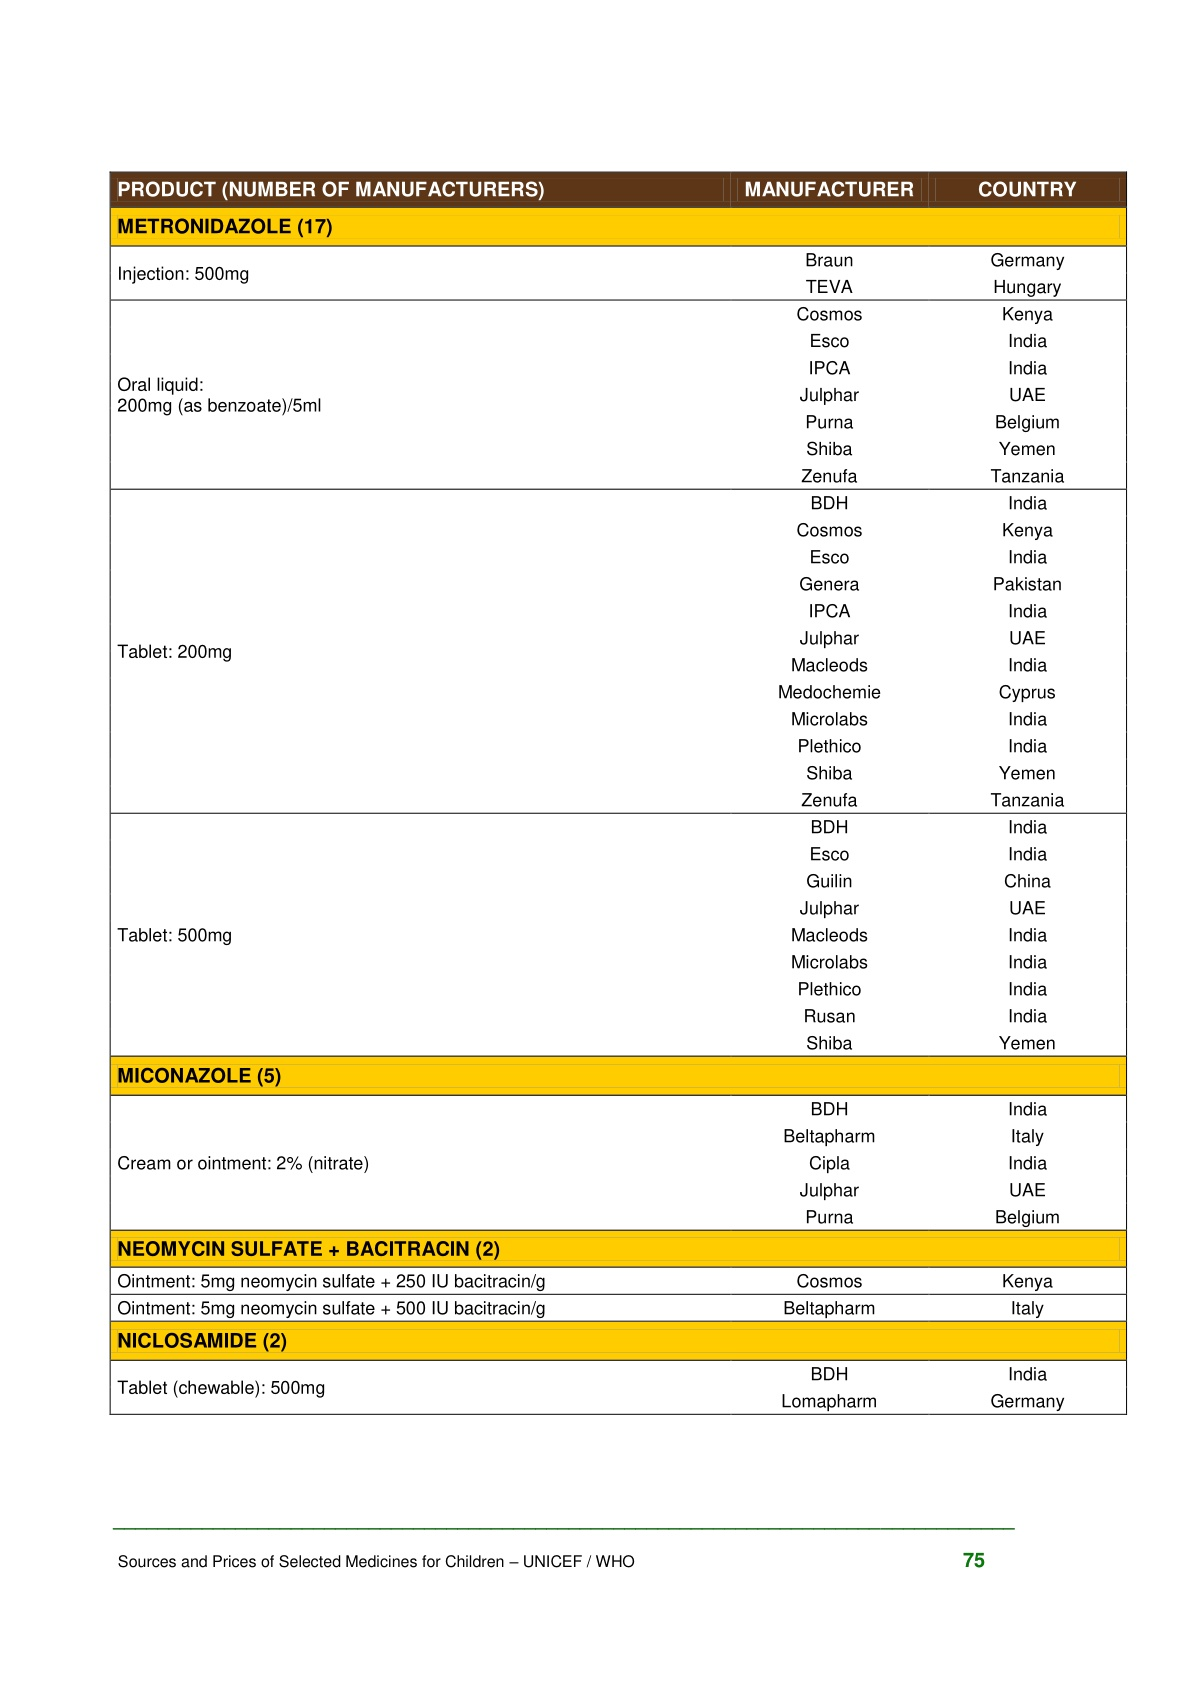merged_cells: (108, 170, 1127, 1416)
